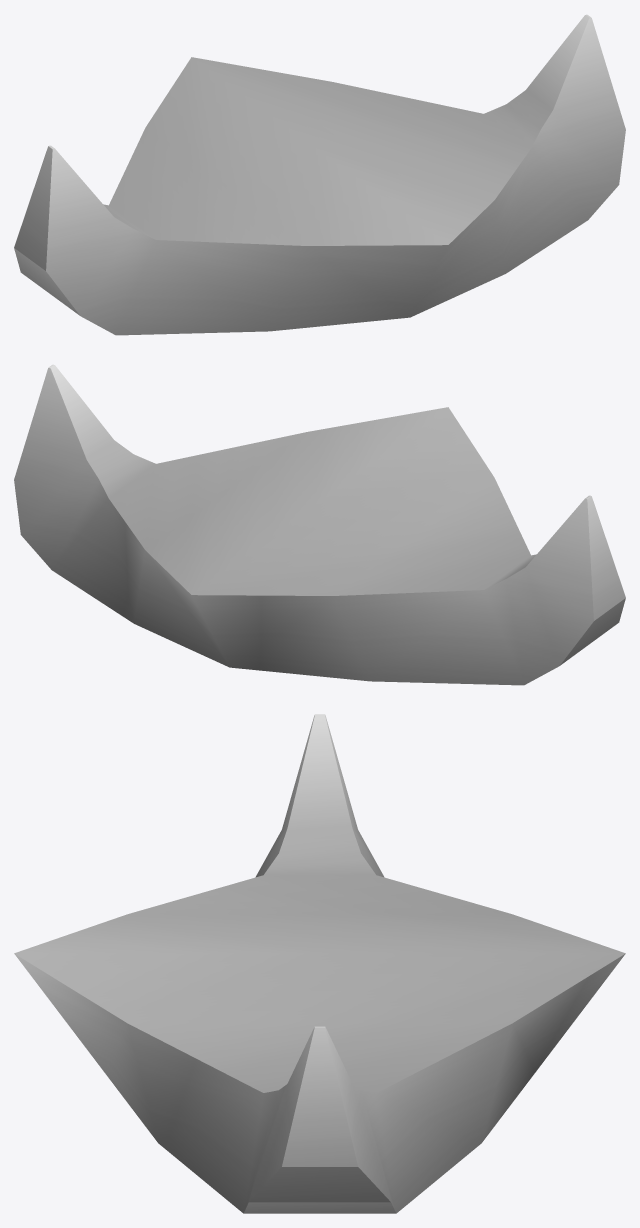
File: stone_guard_049.glb
3 views of the same model, one above another, from view 1: azimuth 30°, elevation 25°; view 2: azimuth 150°, elevation 25°; view 3: azimuth 270°, elevation 25° (orthographic). The views are drawn at different scales.
Parts seen in each view (by area): view 1: stone_guard.049; view 2: stone_guard.049; view 3: stone_guard.049.
Part boxes in pixels (x1,y1,x2,y2): stone_guard.049: (14,14,625,335); stone_guard.049: (14,364,625,685); stone_guard.049: (14,714,625,1213).
Size of the model in its own units: 4.04 by 1.15 by 3.1.
1 material, 1 textured.
